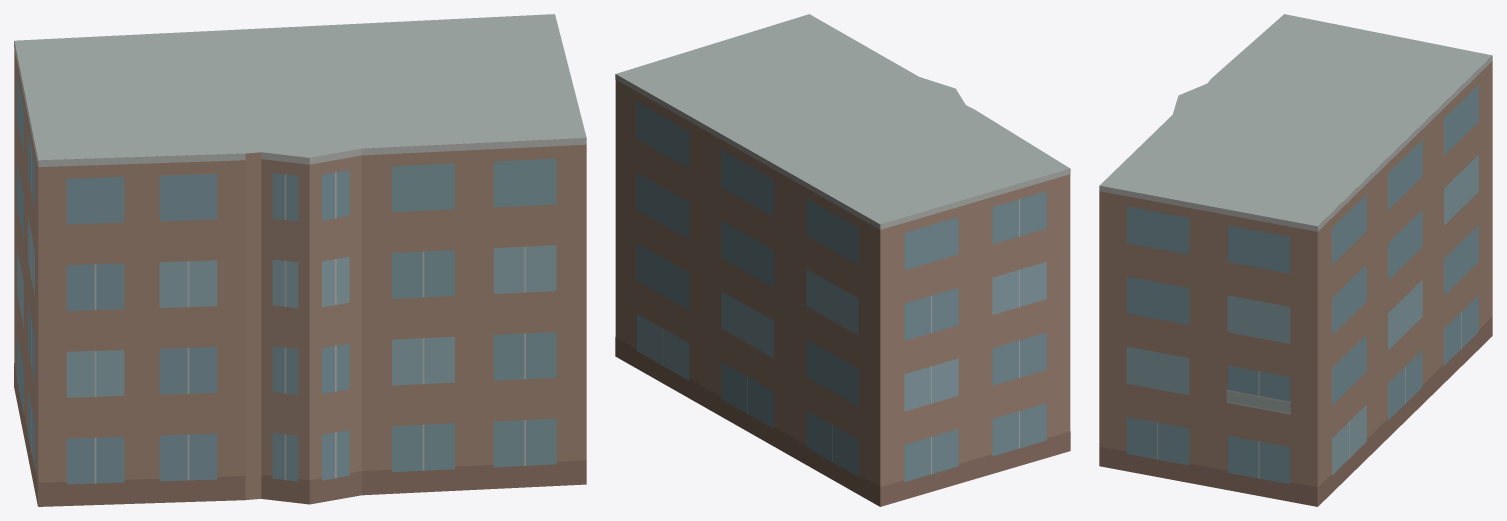
The model's file is survey-upis-32897987.glb.
3 views of the same model, side by side, from view 1: azimuth 30°, elevation 25°; view 2: azimuth 150°, elevation 25°; view 3: azimuth 270°, elevation 25° (orthographic). The views are drawn at different scales.
Parts seen in each view (by area): view 1: survey-upis-32897987.tmp; view 2: survey-upis-32897987.tmp; view 3: survey-upis-32897987.tmp.
Part boxes in pixels (x1,y1,x2,y2): survey-upis-32897987.tmp: (14, 14, 586, 506); survey-upis-32897987.tmp: (615, 14, 1070, 506); survey-upis-32897987.tmp: (1099, 14, 1492, 506).
Bounding box in the file's own units: 20.14 × 12.4 × 15.76.
